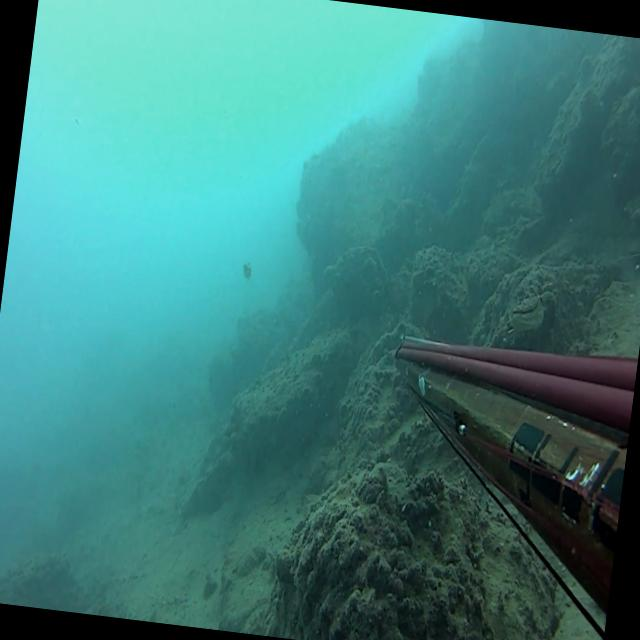Balon Baligi: (506, 290, 544, 330), (241, 260, 251, 278)
